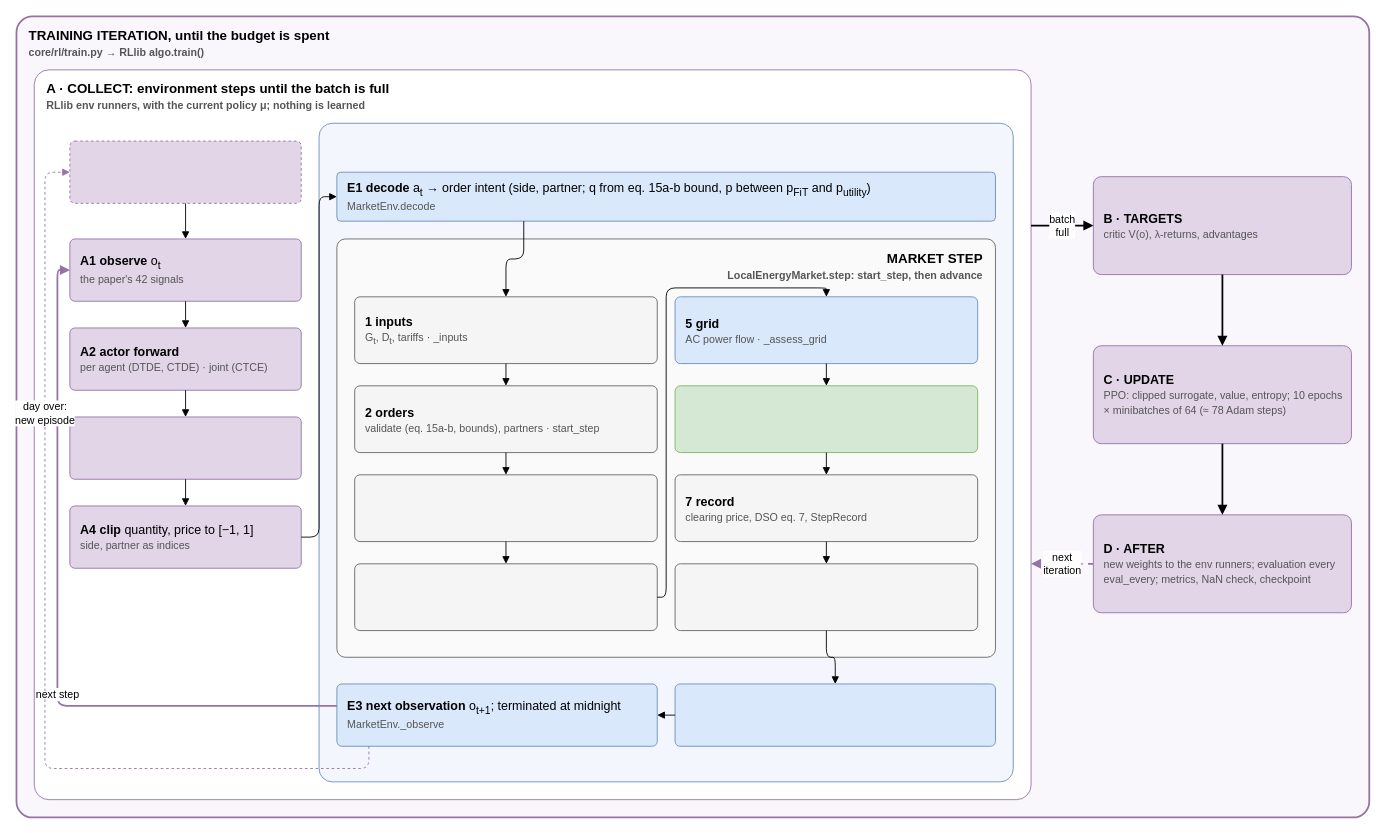
Image size: 1386x833. Some labels were removed from this diagram. The shapes that lost their labels are listed below. From the top down, each one's box as (x1, y1, x2, y2) in pixels, then its label:
(69, 140, 301, 203): Episode start = one day MarketEnv.reset → market phase 0
(674, 385, 978, 453): 6 fees eq. 8 per trade, split, paid · Dso.charge
(69, 416, 301, 479): A3 sample a, log μ(a) side, partner categorical · quantity, price Gaussian
(318, 122, 1013, 782): A5 · ENVIRONMENT STEP MarketEnv.step
(354, 474, 657, 542): 3 clearing preferences → double auction → DSO · clearing.py
(354, 563, 657, 631): 4 settlement balance eq. 13, battery eq. 16, profit eq. 14 · settle
(674, 563, 978, 631): 8 reputation, advance eq. 12 with decay; p ref , next hour's tariffs, clock
(674, 683, 995, 746): E2 reward r t = net bill / scale profit − p utility · deferred demand
